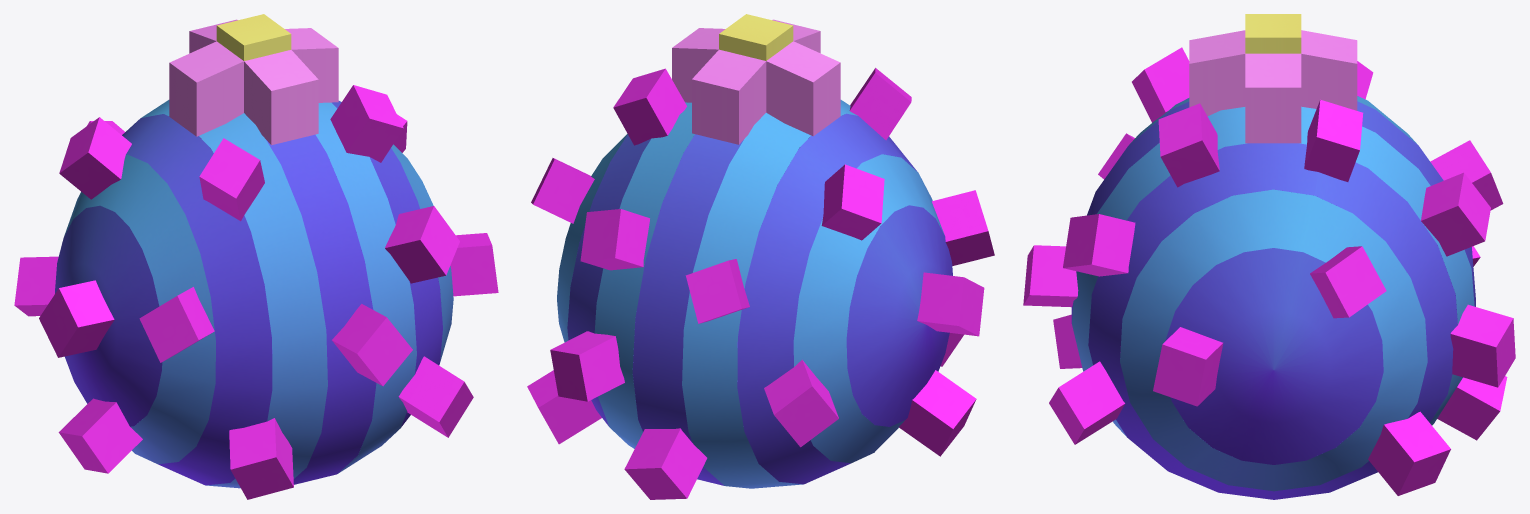
Rendered from OG_cactus2.fbx.
The picture shows the model from 3 angles, left to right: view 1: azimuth 30°, elevation 25°; view 2: azimuth 150°, elevation 25°; view 3: azimuth 270°, elevation 25°; orthographic projection. The views are drawn at different scales.
Visible parts, largest first — view 1: stripes_light; view 2: stripes_light; view 3: stripes_light.
Boxes of the visible parts, x1,y1,x2,y2 form: stripes_light: [14, 14, 498, 499]; stripes_light: [527, 14, 994, 499]; stripes_light: [1023, 14, 1515, 499].
Size of the model in its own units: 29.15 by 29.75 by 29.43.
